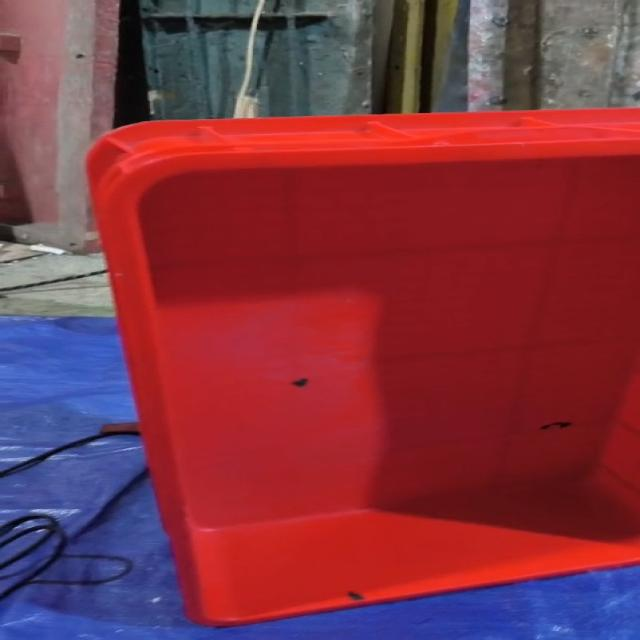red plastic box: (84, 108, 639, 627)
